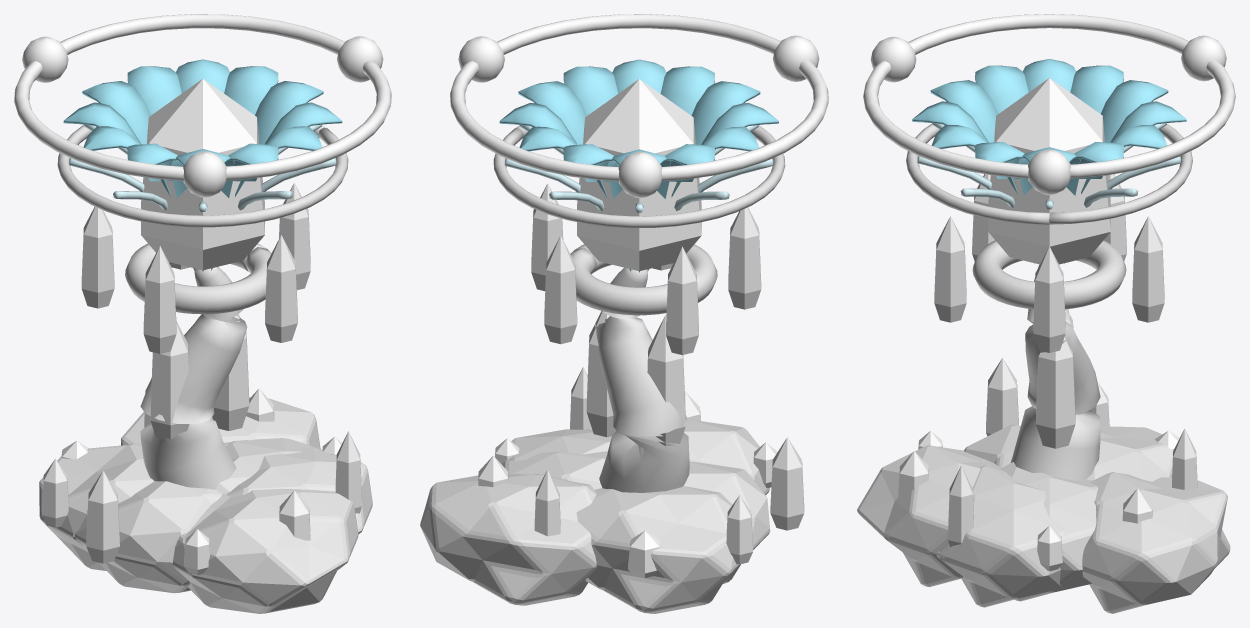
Rendered from frost-4.fbx.
3 views of the same model, side by side, from view 1: azimuth 30°, elevation 25°; view 2: azimuth 150°, elevation 25°; view 3: azimuth 270°, elevation 25° (orthographic).
Visible parts, largest first — view 1: Base_Stone, Petals_Glow, Ring02_Glow, Turret_Glow, IceHeart, FrostRoot, Base_Glow, GoldHalo, BudCollar; view 2: Base_Stone, Petals_Glow, Ring02_Glow, Turret_Glow, IceHeart, FrostRoot, Base_Glow, GoldHalo, BudCollar; view 3: Base_Stone, Petals_Glow, Ring02_Glow, Turret_Glow, IceHeart, Base_Glow, FrostRoot, BudCollar, GoldHalo.
Boxes of the visible parts, box(x1,y1,x2,y2) form: Base_Stone: box(39, 397, 372, 613); Petals_Glow: box(63, 59, 342, 271); Ring02_Glow: box(14, 14, 391, 197); Turret_Glow: box(81, 183, 310, 439); IceHeart: box(141, 79, 264, 270); FrostRoot: box(140, 267, 247, 489); Base_Glow: box(42, 382, 361, 575); GoldHalo: box(57, 125, 348, 227); BudCollar: box(125, 243, 271, 314); Base_Stone: box(420, 421, 770, 613); Petals_Glow: box(499, 59, 778, 272); Ring02_Glow: box(450, 14, 828, 198); Turret_Glow: box(531, 183, 761, 446); IceHeart: box(577, 79, 701, 271); FrostRoot: box(594, 268, 689, 492); Base_Glow: box(478, 367, 804, 578); GoldHalo: box(493, 125, 785, 228); BudCollar: box(570, 244, 717, 315); Base_Stone: box(857, 424, 1230, 613); Petals_Glow: box(912, 59, 1186, 263); Ring02_Glow: box(863, 14, 1235, 194); Turret_Glow: box(934, 174, 1164, 448); IceHeart: box(988, 78, 1110, 264); Base_Glow: box(898, 358, 1197, 571); FrostRoot: box(1010, 264, 1100, 480); BudCollar: box(972, 240, 1126, 309); GoldHalo: box(906, 124, 1192, 224).
Bounding box in the file's own units: 93.3 × 130 × 91.05.
